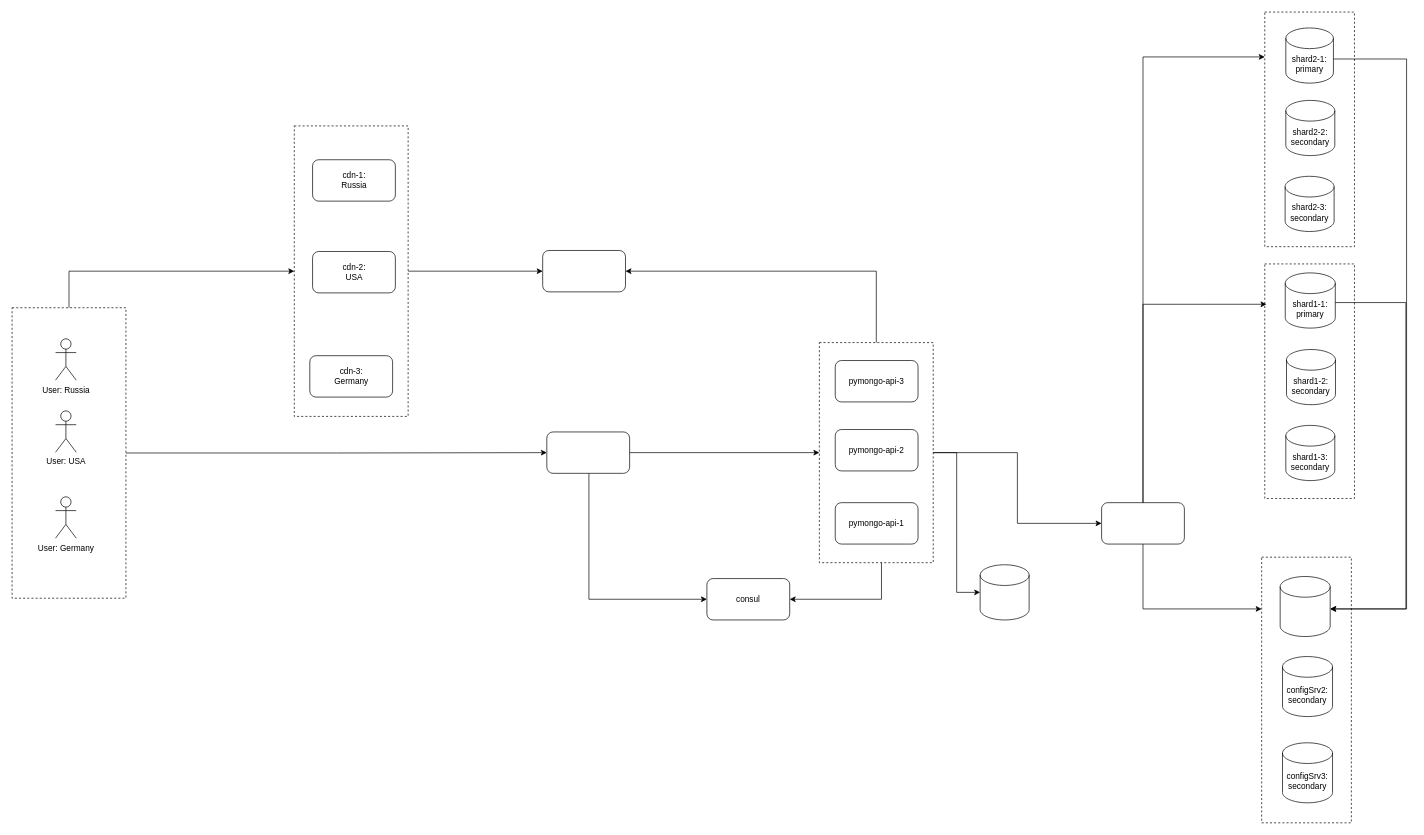
Some shapes in this 1424 by 835 pixel diagram are drawn without their labels. Here are the shapes that lost their labels. From the top down, the centre of each, then its label:
At (583,271): "s3-storage".
At (588,452): "api-gateway".
At (1142,523): "mongos-router".
At (1004,592): "redis".
At (1304,606): "configSrv1: primary".
